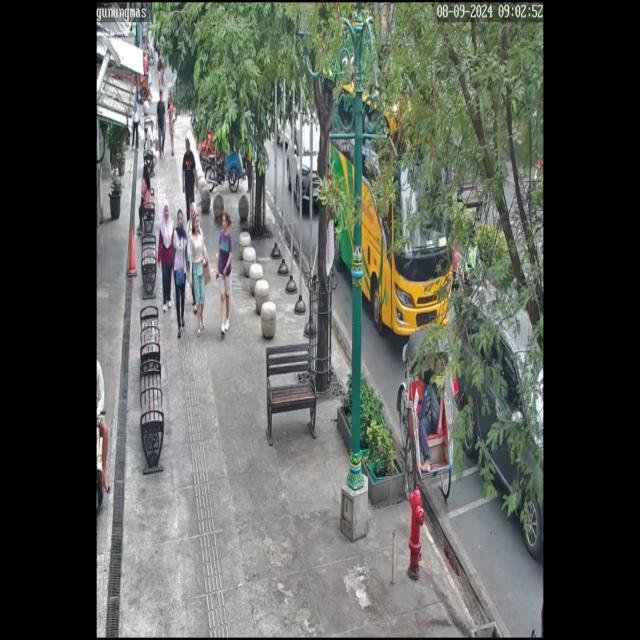Bus: (322, 62, 456, 350)
Car: (452, 266, 544, 570), (279, 100, 326, 218)
